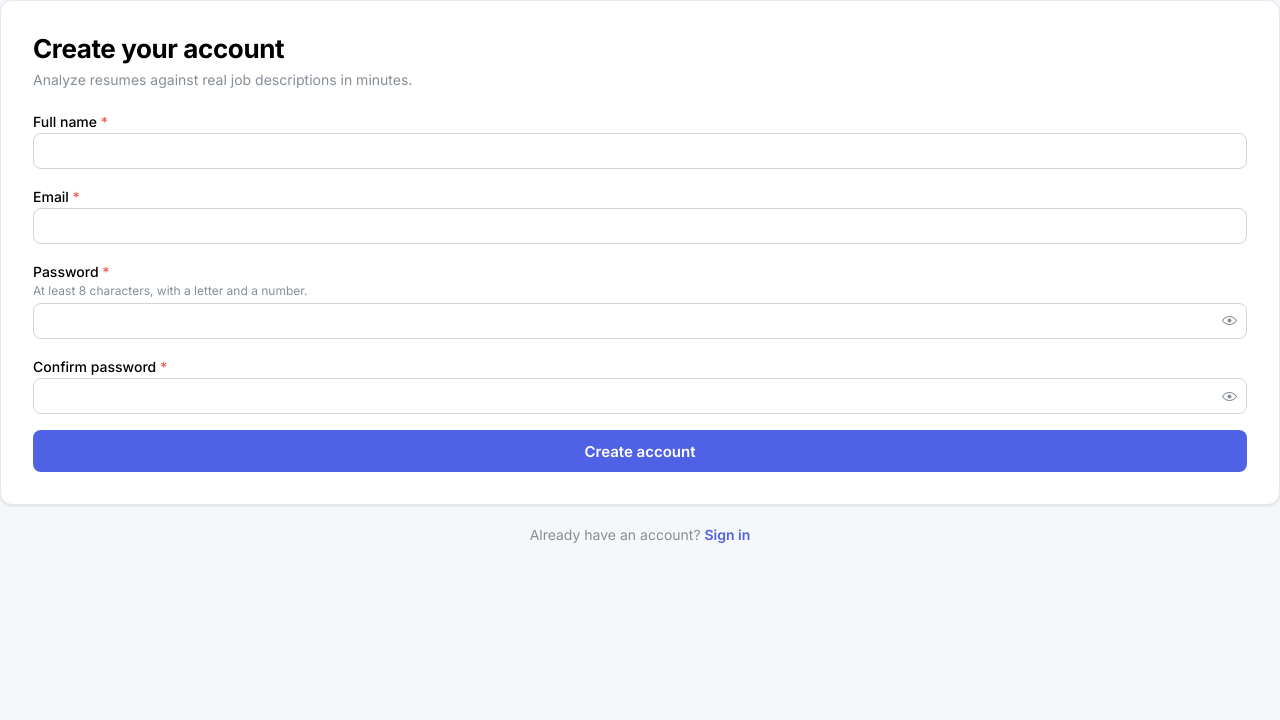
RegisterForm › requires matching, sufficiently strong passwords
In the field labelled "Full name *": (640, 151) [33,133,1247,169], type "Sam"
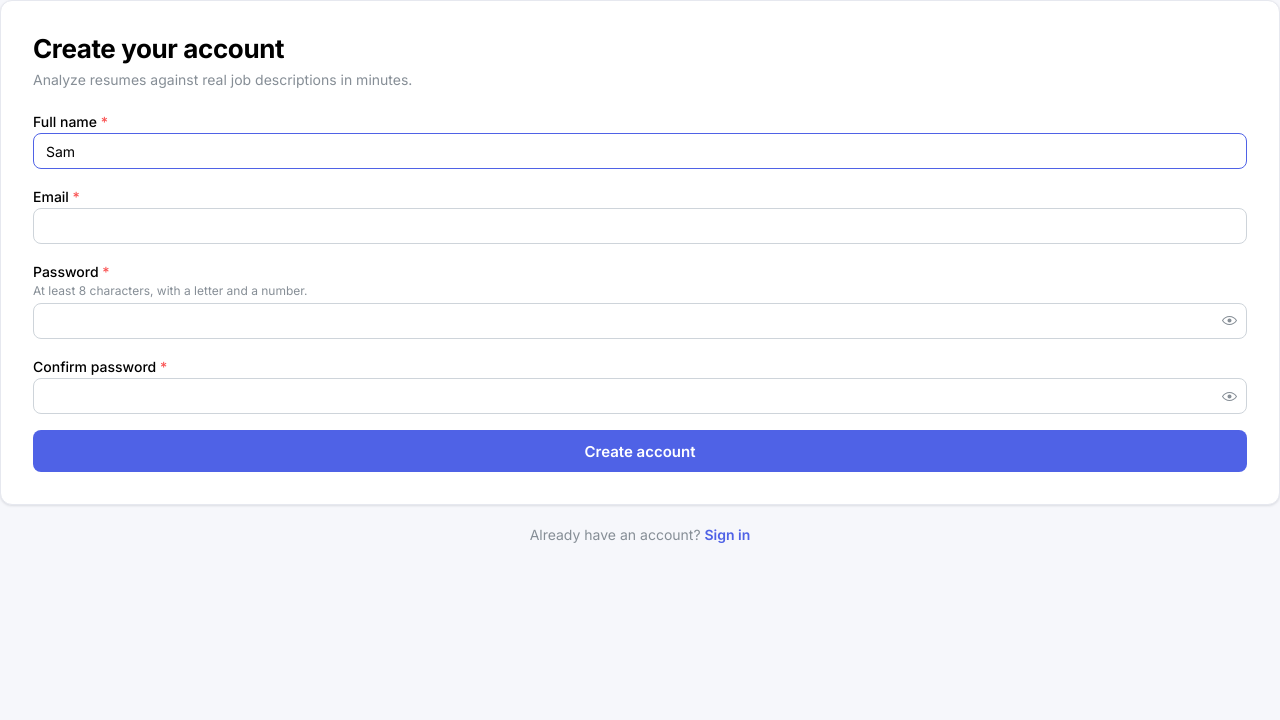
In the field labelled "Email *": (640, 226) [33,208,1247,244], type "sam@example.com"
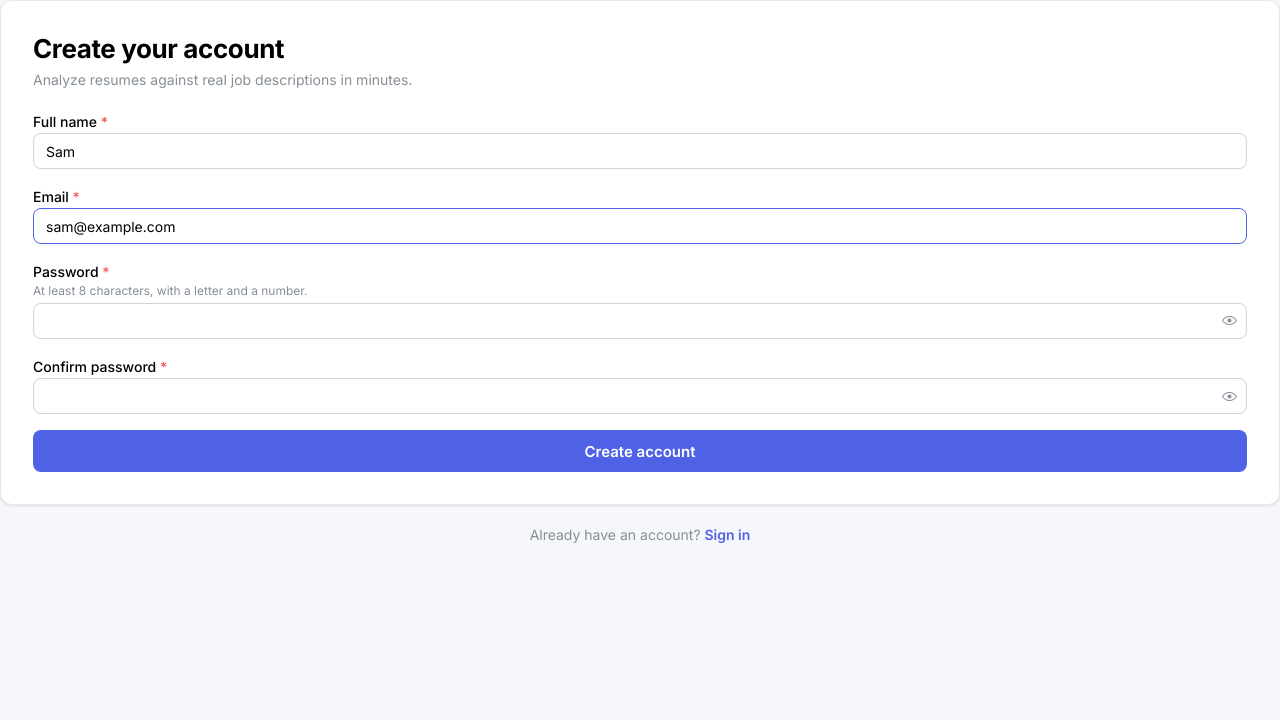
In the password field labelled "Password *": (640, 321) [34,304,1246,338], type "lettersonly"
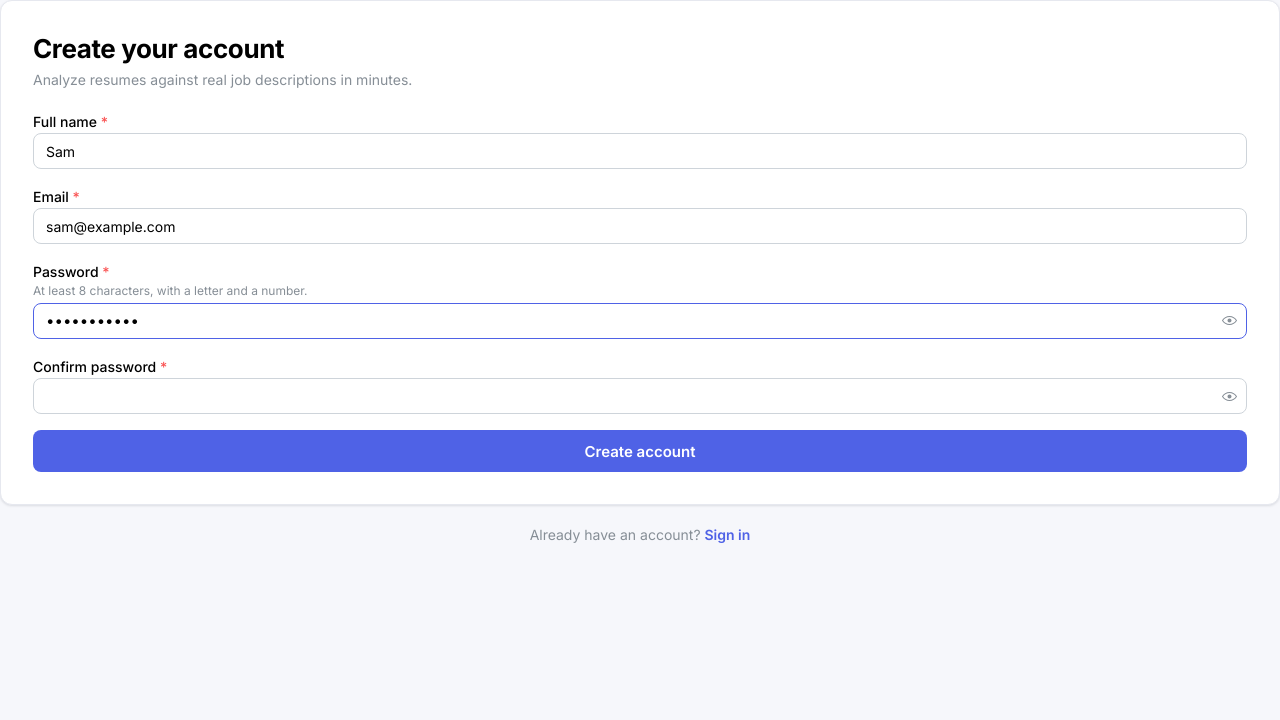
In the password field labelled "Confirm password *": (640, 396) [34,379,1246,413], type "different1"
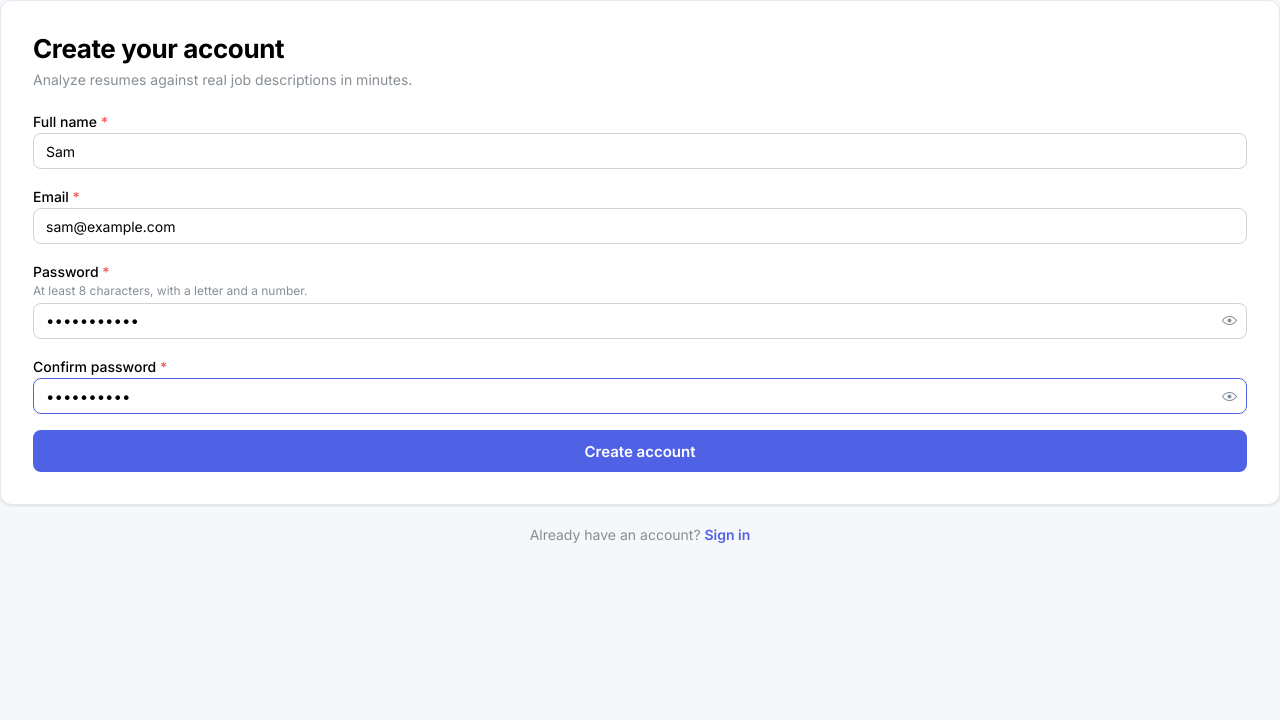
Click the button "Create account": (640, 451) [33,430,1247,472]
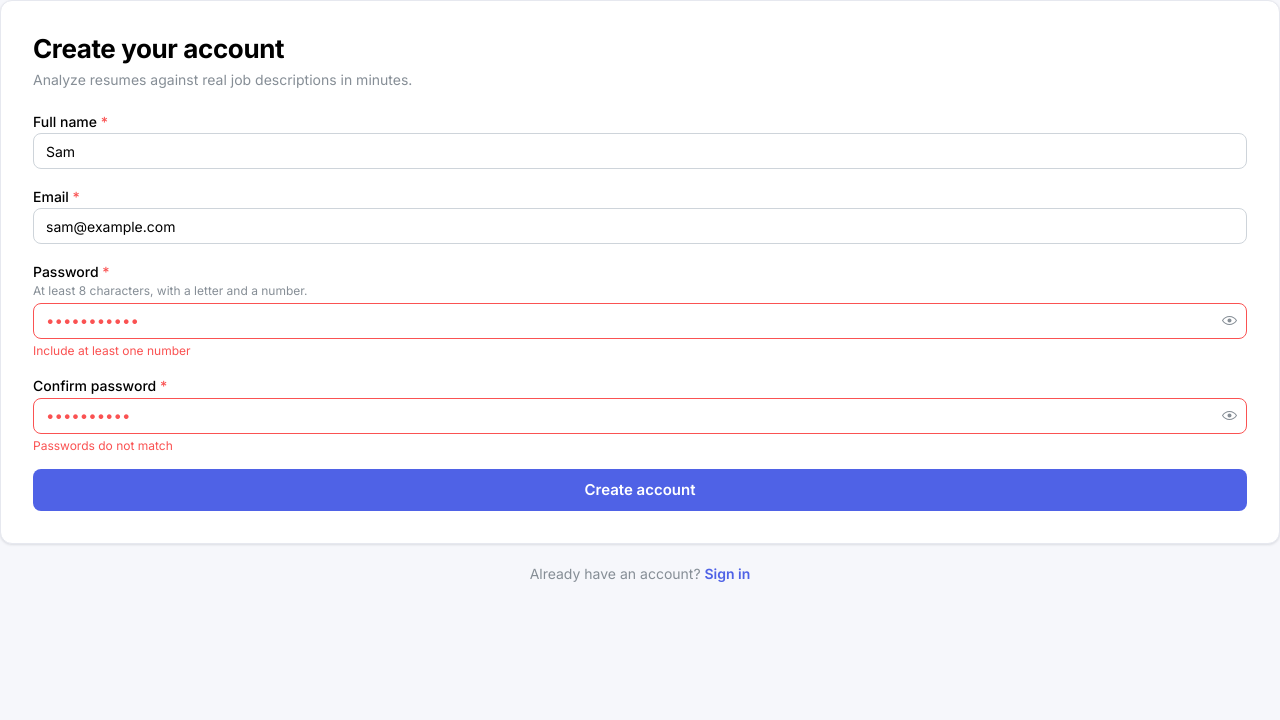
Expected: the text "Include at least one number" is shown, [33,343,190,358]
Expected: the text "Passwords do not match" is shown, [33,438,173,453]
